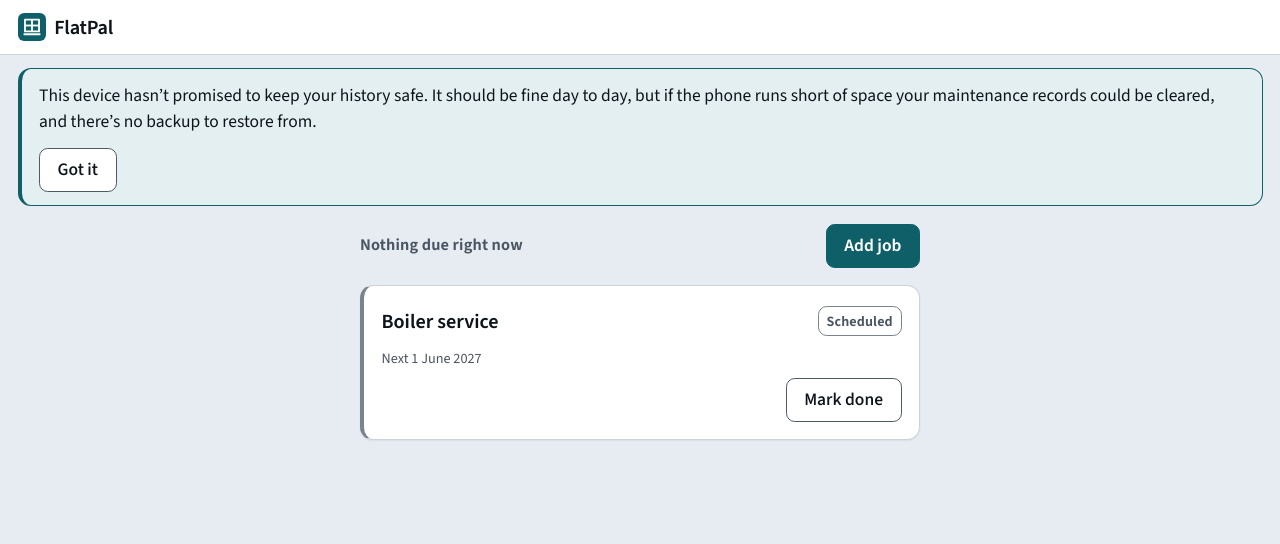
Scenario: undo is offered only for what this session recorded › offers undo for a tick-off made in this session, and takes back exactly that one
Expected: the button "Boiler service" is shown, [382,299,499,343]
Click the button "Mark done".
click(844, 400)  # box [786,378,902,422]
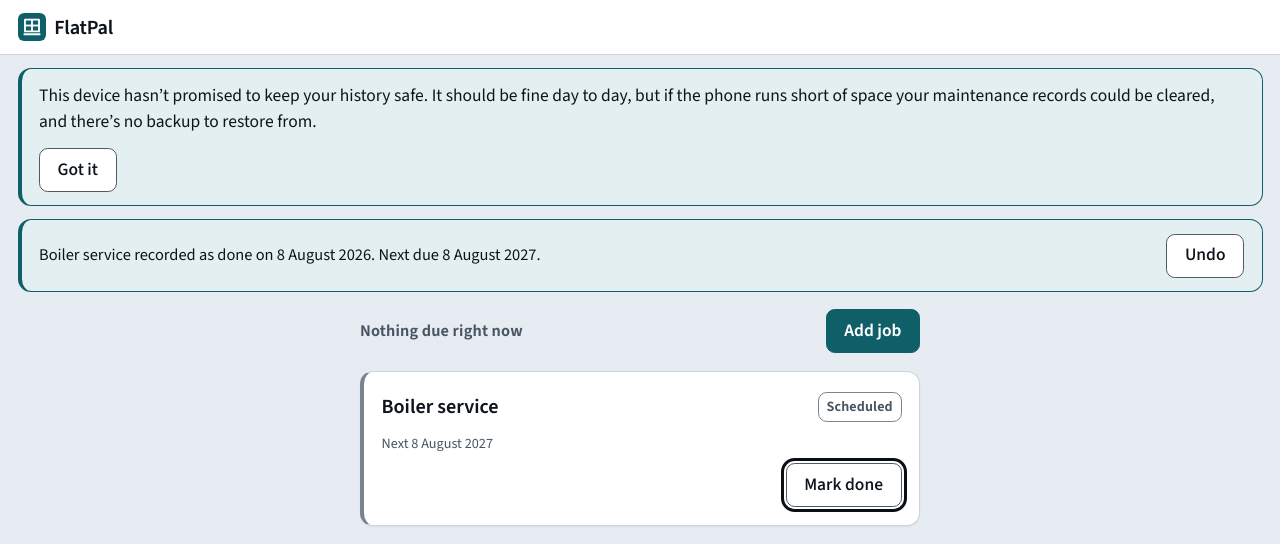
Click the button "Undo".
click(1205, 256)  # box [1166,234,1244,278]
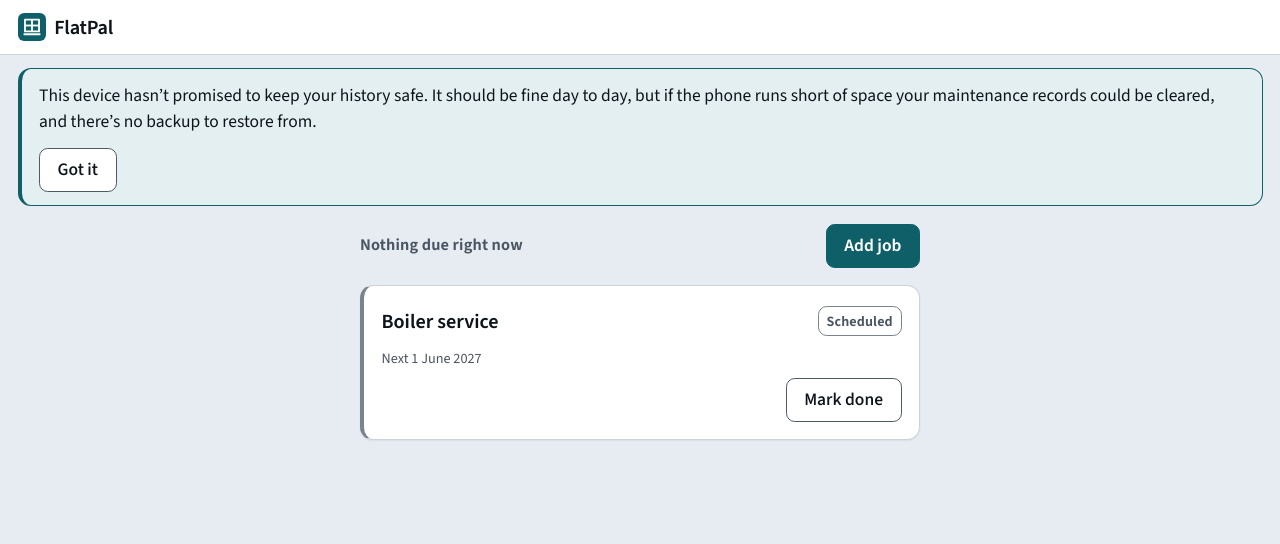
Expected: the button "Undo" is gone
